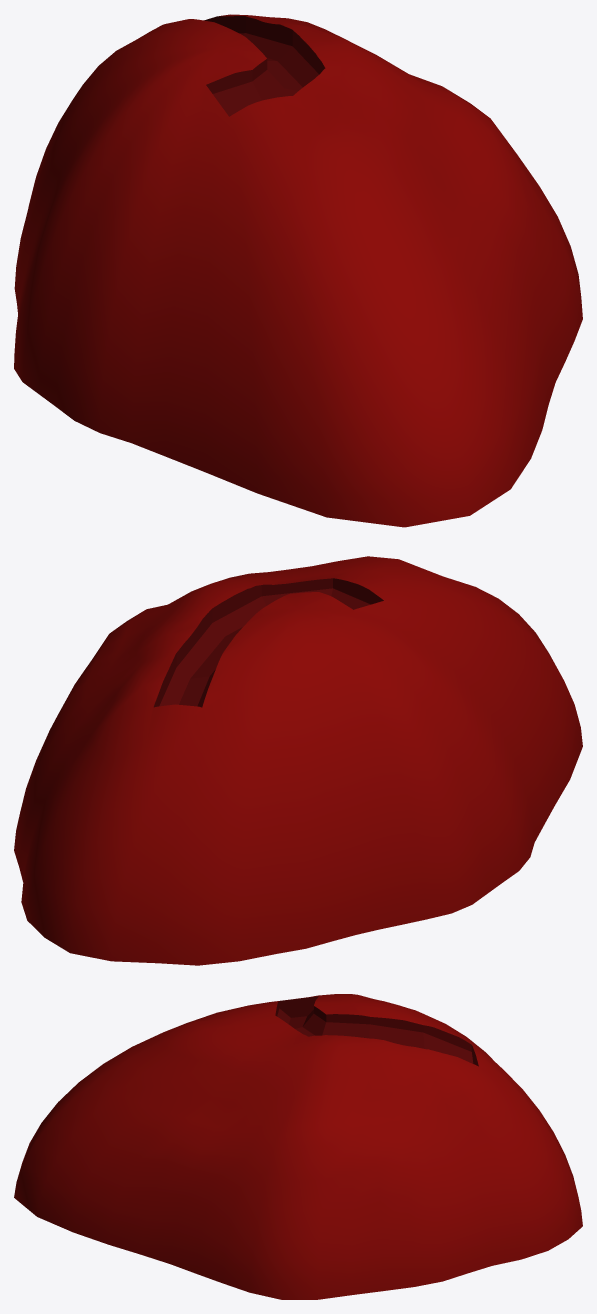
The model's file is newsh5-121-f3.glb.
3 renders of one model, top to bottom at view 1: azimuth 30°, elevation 25°; view 2: azimuth 150°, elevation 25°; view 3: azimuth 270°, elevation 25°, orthographic. The views are drawn at different scales.
Parts seen in each view (by area): view 1: newsh5-121-f3; view 2: newsh5-121-f3; view 3: newsh5-121-f3.
Part boxes in pixels (bbox=[...]): newsh5-121-f3: bbox=[14, 14, 582, 527]; newsh5-121-f3: bbox=[14, 556, 582, 965]; newsh5-121-f3: bbox=[14, 994, 582, 1299].
Bounding box in the file's own units: 1.47 × 0.7917 × 2.1.
